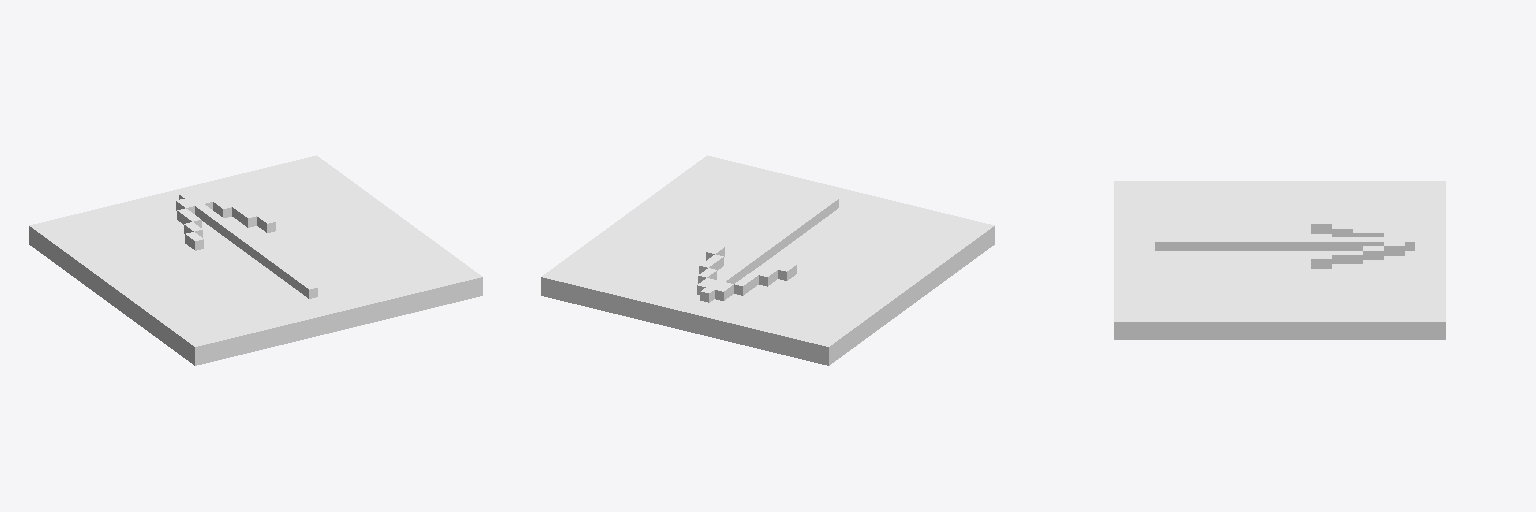
The model's file is arrow_forward.obj.
3 views of the same model, side by side, from view 1: azimuth 30°, elevation 25°; view 2: azimuth 150°, elevation 25°; view 3: azimuth 270°, elevation 25° (orthographic).
Parts seen in each view (by area): view 1: object 1; view 2: object 1; view 3: object 1.
Part boxes in pixels (x1,y1,x2,y2): object 1: (29,155,482,365); object 1: (541,155,994,365); object 1: (1114,181,1445,339).
Bounding box in the file's own units: 3.2 × 0.3 × 3.2.